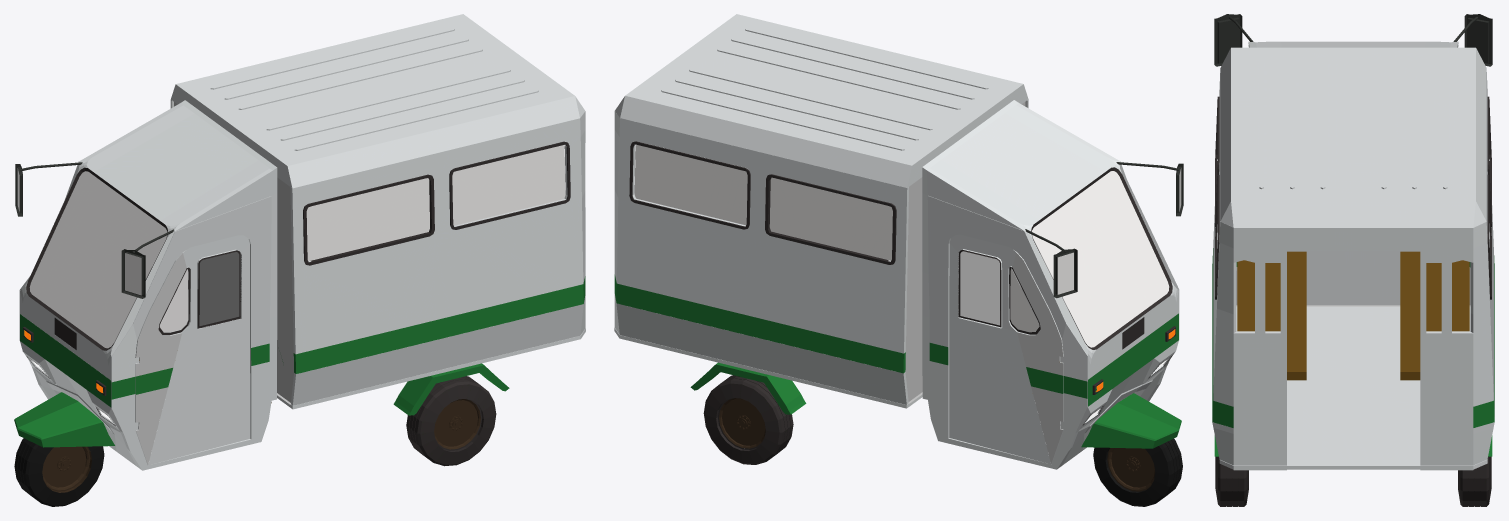
The model's file is three_wheel.glb.
The picture shows the model from 3 angles, left to right: view 1: azimuth 30°, elevation 25°; view 2: azimuth 150°, elevation 25°; view 3: azimuth 270°, elevation 25°; orthographic projection. The views are drawn at different scales.
Visible parts, largest first — view 1: Side; view 2: Side; view 3: Side.
Part boxes in pixels (<box>): Side: <box>14,14,585,506</box>; Side: <box>614,14,1183,506</box>; Side: <box>1212,14,1494,506</box>.
Bounding box in the file's own units: 3.07 × 1.92 × 1.34.
Materials: 3 (3 with a texture image).
